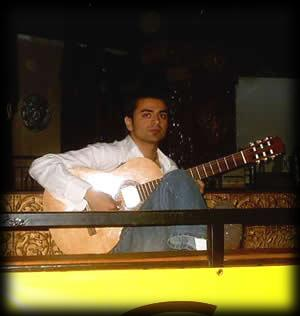person: (28, 90, 209, 253)
